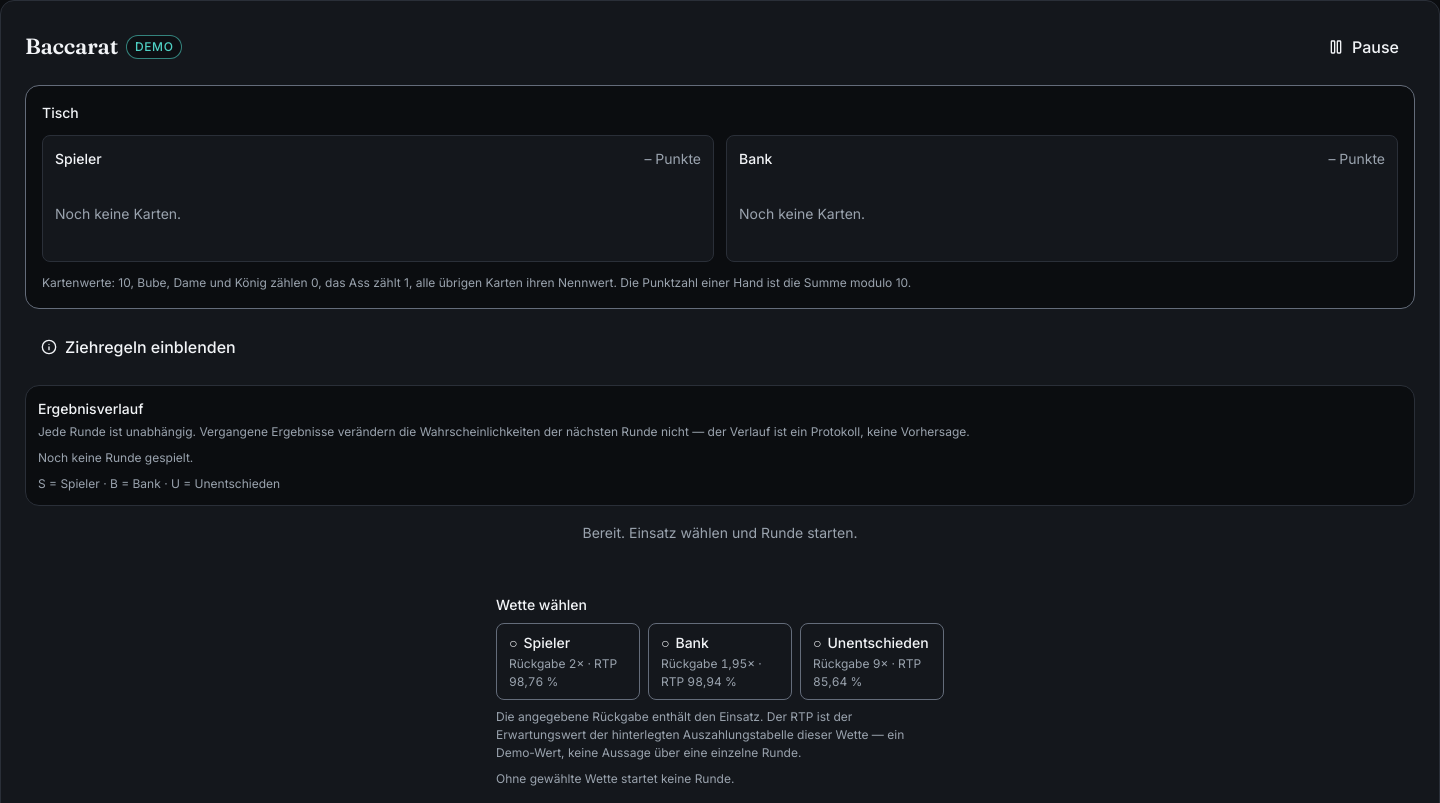
it: BaccaratGame — Oberfläche und Wallet-Verdrahtung › blendet die vollständigen Ziehregeln ein
This screenshot has width=1440, height=803.
What coordinates should you click on to do the following:
click the button "Ziehregeln einblenden"
I would click on:
 (138, 347)
Its box is [25,325,252,369].
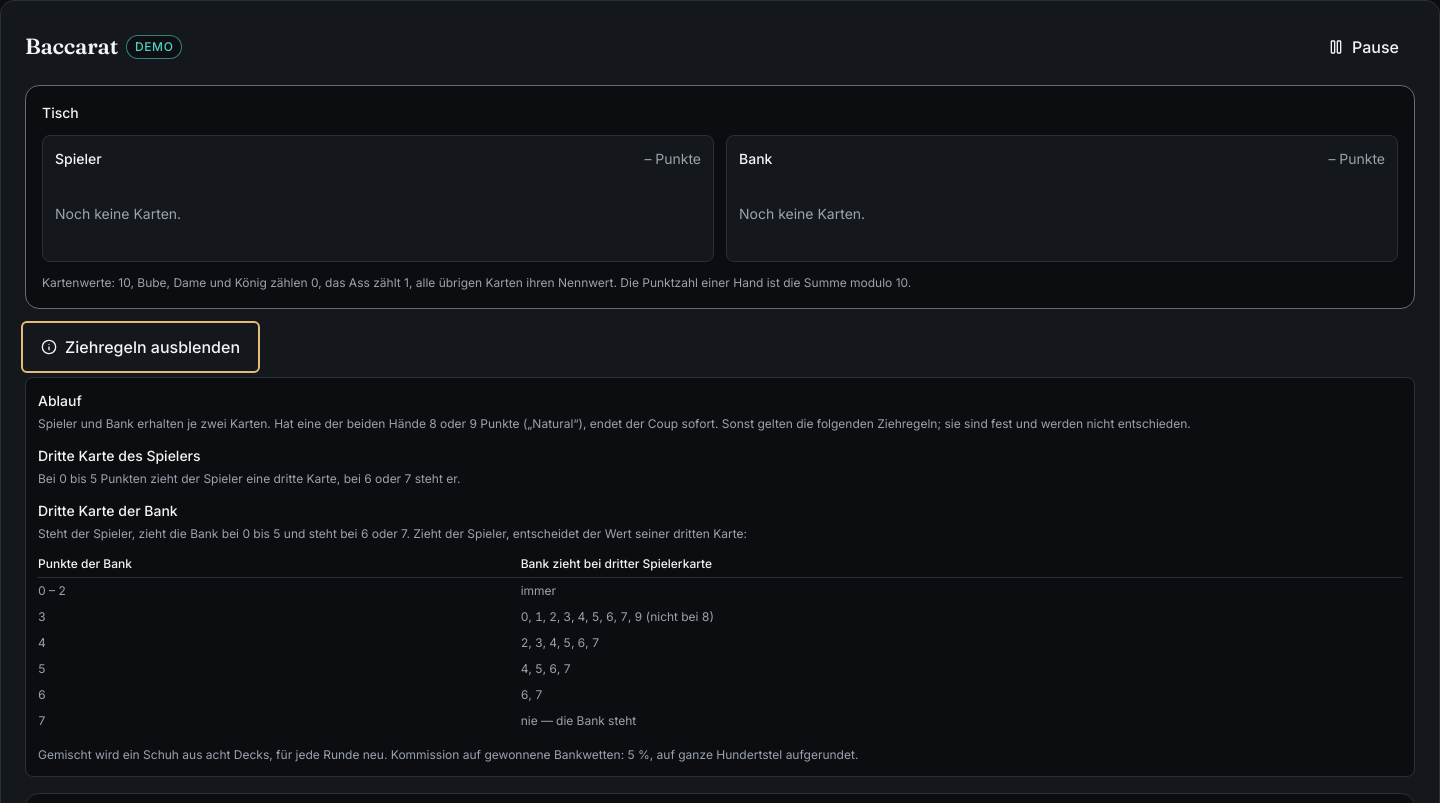
Expected: the table named "Ziehtabelle der Bank" is shown, [38,551,1402,734]
Expected: the text "0, 1, 2, 3, 4, 5, 6, 7, 9 (nicht bei 8)" is shown, [521,604,1402,630]
Expected: the column heading "7" is shown, [38,708,521,734]
